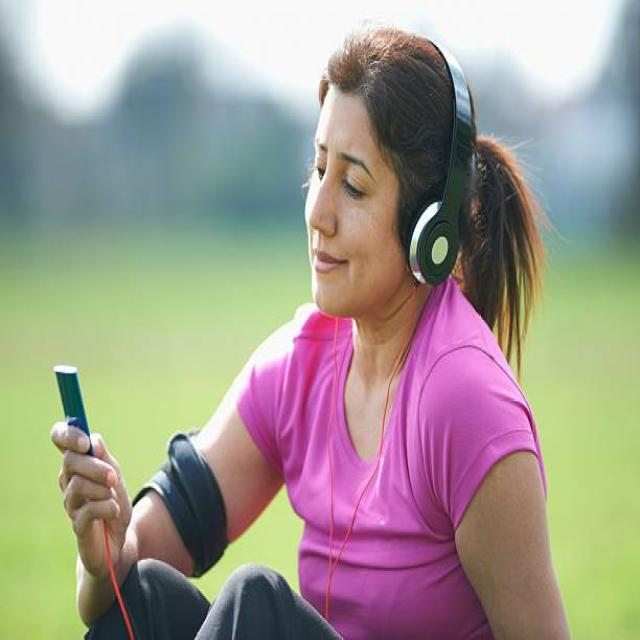Headphone: (402, 34, 475, 290)
